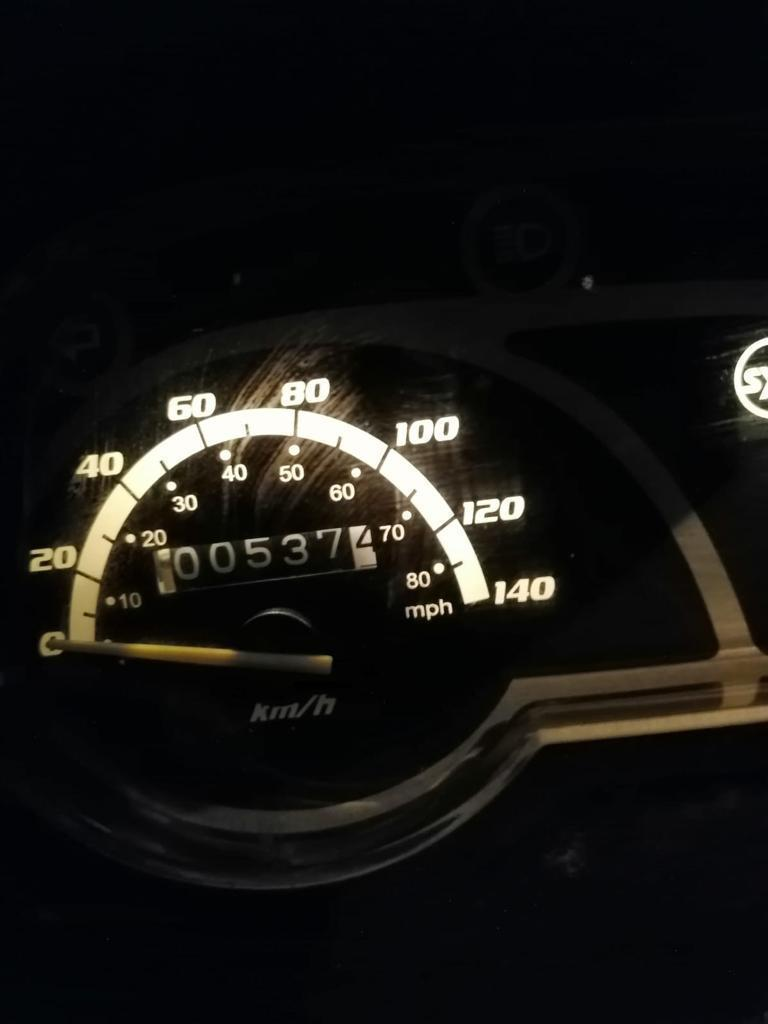0: (206, 540, 238, 576), (172, 545, 201, 579), (154, 529, 170, 546)
2: (140, 528, 154, 550)
3: (280, 533, 309, 567)
4: (348, 521, 378, 564)
5: (243, 535, 272, 567)
7: (314, 525, 343, 559)
odometer: (142, 520, 383, 597)
